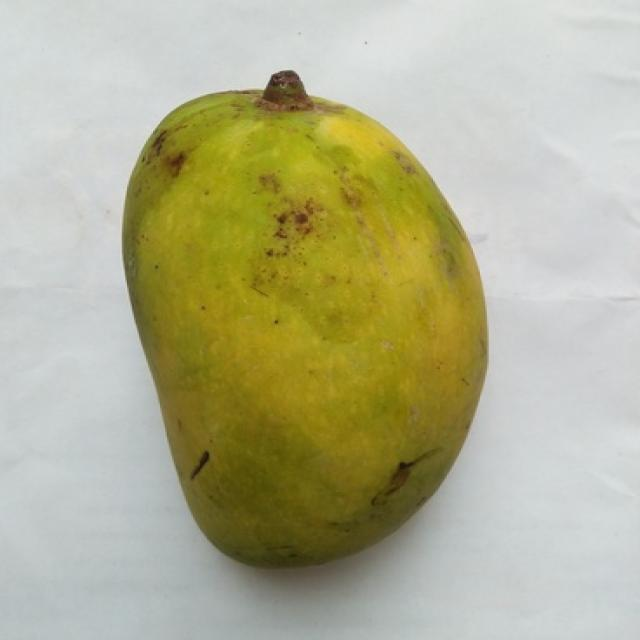Mango: (125, 91, 482, 563)
